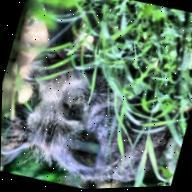boar: (1, 13, 192, 192)
